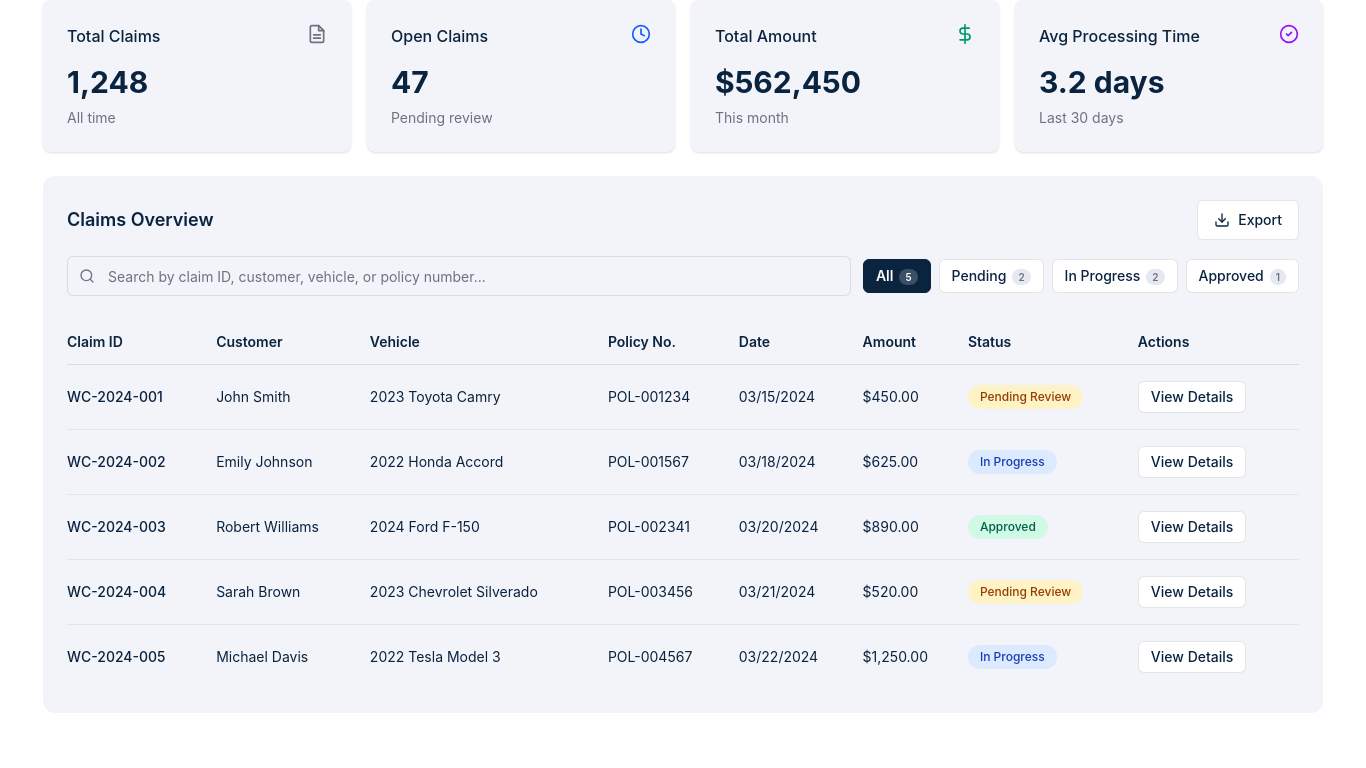
Test: InsurerDashboardPage › hides action buttons and shows approval banner for APPROVED claims
Click the button "View Details" in the row of "WC-2024-003" at (1192, 527), box [1138, 511, 1246, 543]
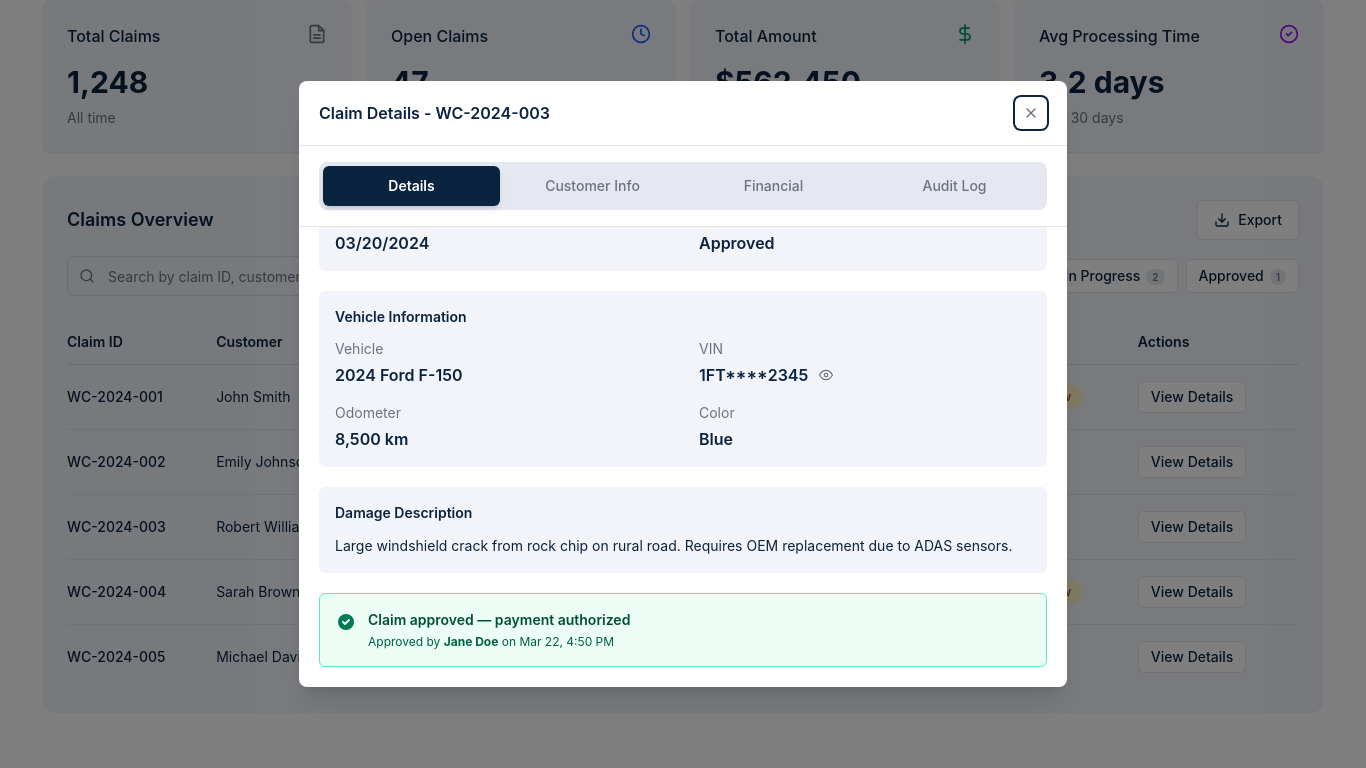
Now the text "Claim approved — payment authorized" is shown, box [368, 610, 630, 630]
